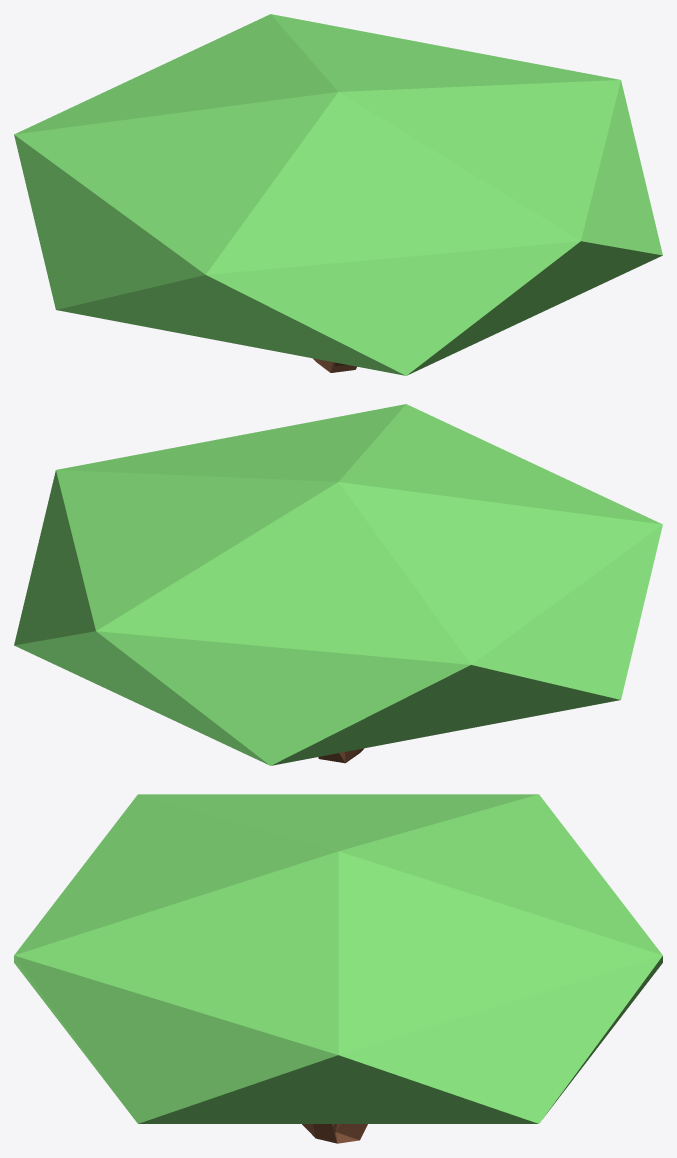
The model's file is Bush2.fbx.
3 views of the same model, one above another, from view 1: azimuth 30°, elevation 25°; view 2: azimuth 150°, elevation 25°; view 3: azimuth 270°, elevation 25° (orthographic). The views are drawn at different scales.
Parts seen in each view (by area): view 1: Icosphere.001; view 2: Icosphere.001; view 3: Icosphere.001, Vert.002.
Boxes of the visible parts, bbox=[...] form: Icosphere.001: bbox=[14, 14, 662, 375]; Icosphere.001: bbox=[14, 404, 662, 765]; Icosphere.001: bbox=[14, 794, 662, 1123]; Vert.002: bbox=[302, 1124, 367, 1143].
Size of the model in its own units: 1401 by 646 by 1333.
